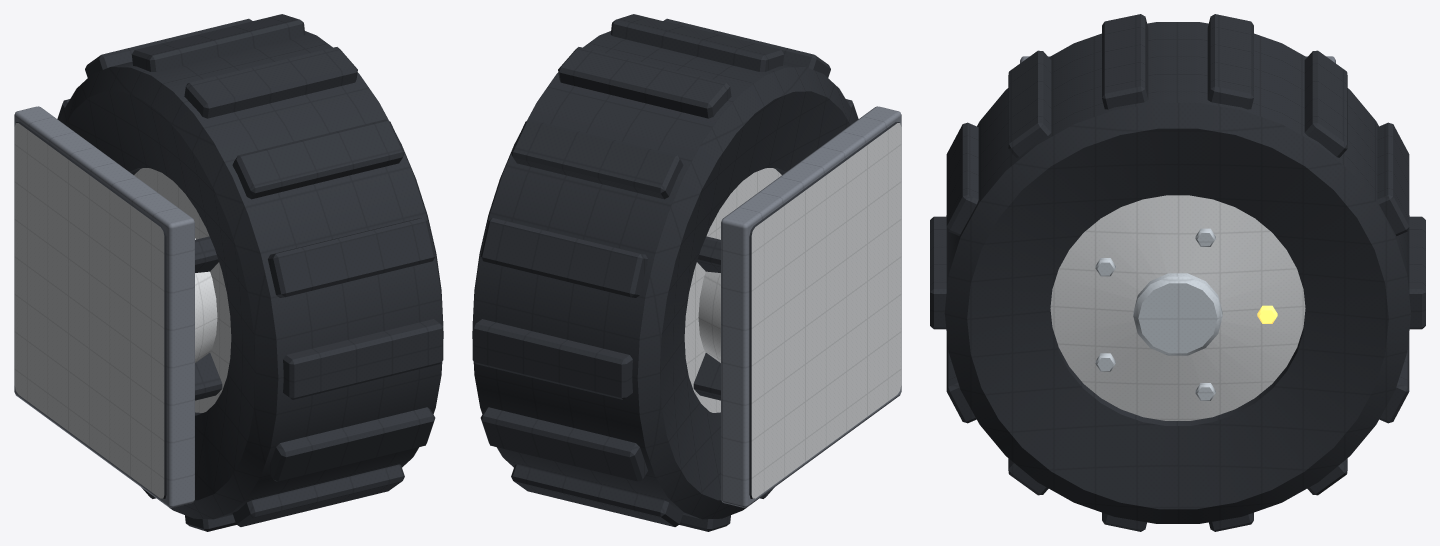
The model's file is R4M_WheelM_Side_Offroad.glb.
3 views of the same model, side by side, from view 1: azimuth 30°, elevation 25°; view 2: azimuth 150°, elevation 25°; view 3: azimuth 270°, elevation 25° (orthographic).
Parts seen in each view (by area): view 1: R4M_WheelM_Side_Offroad_Rotor, R4M_WheelM_Side_Offroad_Mount; view 2: R4M_WheelM_Side_Offroad_Rotor, R4M_WheelM_Side_Offroad_Mount; view 3: R4M_WheelM_Side_Offroad_Rotor.
Part boxes in pixels (<box>): R4M_WheelM_Side_Offroad_Rotor: <box>57,14,443,531</box>; R4M_WheelM_Side_Offroad_Mount: <box>14,106,222,507</box>; R4M_WheelM_Side_Offroad_Rotor: <box>472,14,858,531</box>; R4M_WheelM_Side_Offroad_Mount: <box>693,106,901,507</box>; R4M_WheelM_Side_Offroad_Rotor: <box>930,14,1425,531</box>.
Bounding box in the file's own units: 0.452 × 0.7695 × 0.776.
5 materials, 4 textured.
